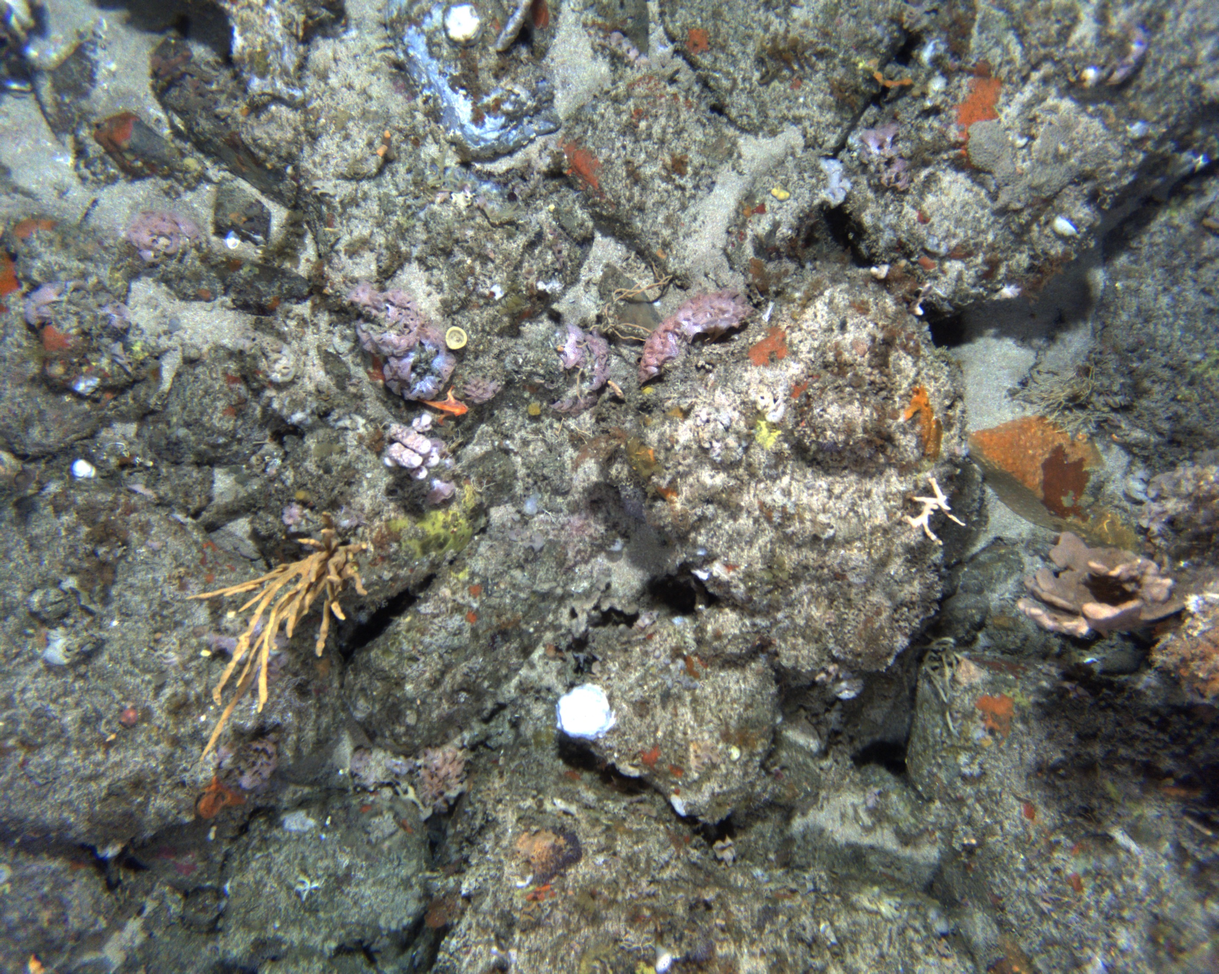Brachionichthyidae: (414, 383, 472, 427)
